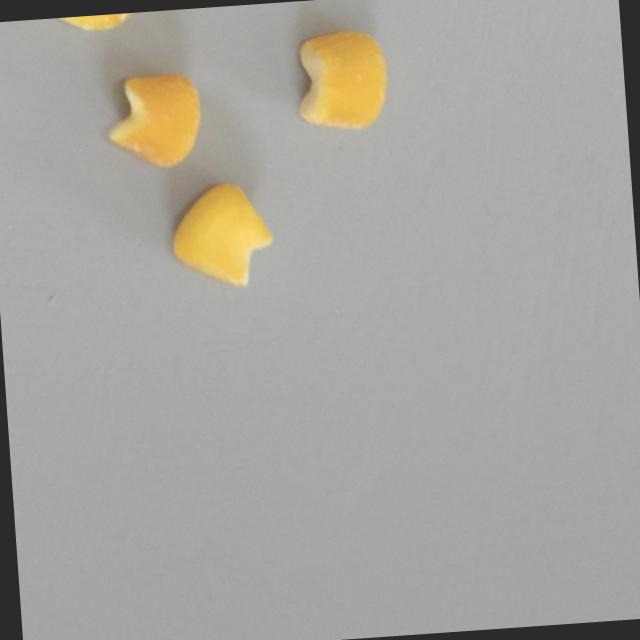dañado: (25, 11, 157, 37)
no_canjicado: (163, 175, 281, 292)
pelicula: (285, 22, 394, 134), (98, 66, 206, 174)
